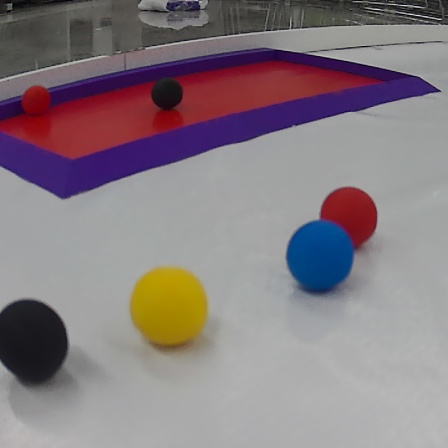black: (2, 296, 70, 388), (149, 75, 188, 114)
blue: (283, 220, 355, 296)
red: (314, 186, 381, 248), (17, 81, 53, 120)
red_aim: (3, 47, 448, 203)
yellow: (126, 262, 214, 350)
